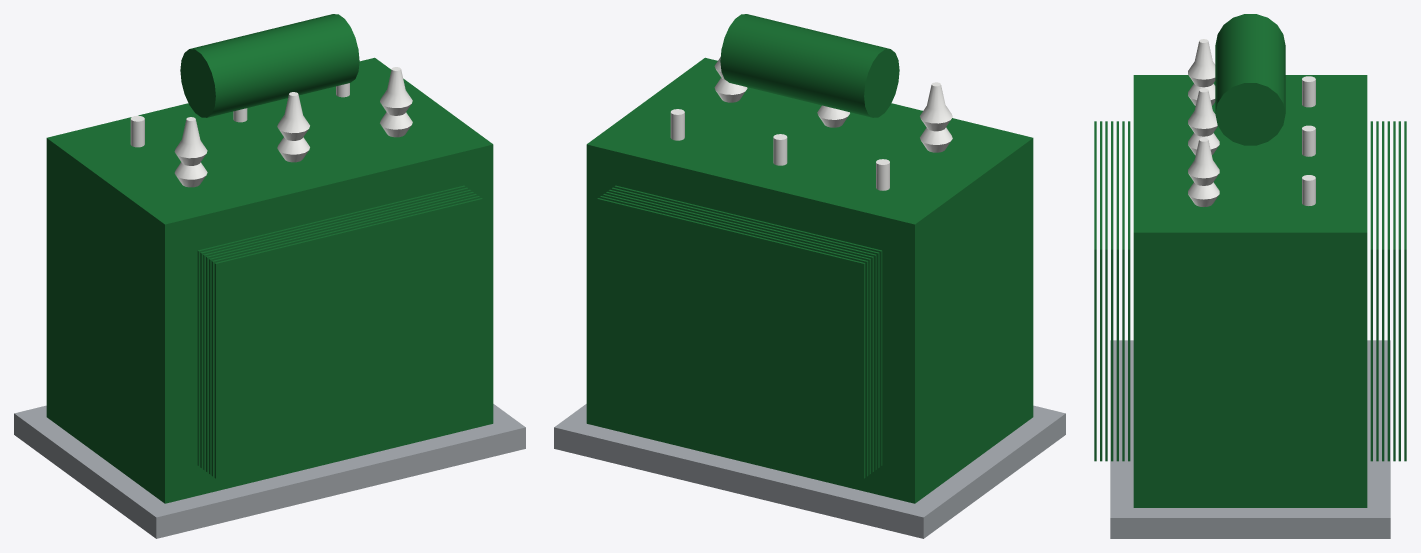
The model's file is services.plant.transformer.glb.
3 views of the same model, side by side, from view 1: azimuth 30°, elevation 25°; view 2: azimuth 150°, elevation 25°; view 3: azimuth 270°, elevation 25° (orthographic).
Parts seen in each view (by area): view 1: main__plastic_green, main__steel_galvanised, main__ceramic; view 2: main__plastic_green, main__steel_galvanised, main__ceramic; view 3: main__plastic_green, main__steel_galvanised, main__ceramic.
Part boxes in pixels (x1,y1,x2,y2): main__plastic_green: [46, 14, 493, 503]; main__steel_galvanised: [14, 404, 525, 538]; main__ceramic: [130, 67, 412, 187]; main__plastic_green: [586, 14, 1033, 503]; main__steel_galvanised: [554, 404, 1065, 538]; main__ceramic: [670, 57, 952, 190]; main__plastic_green: [1094, 14, 1406, 507]; main__steel_galvanised: [1110, 340, 1390, 538]; main__ceramic: [1188, 39, 1315, 206].
Bounding box in the file's own units: 1.8 × 1.9 × 1.34.
